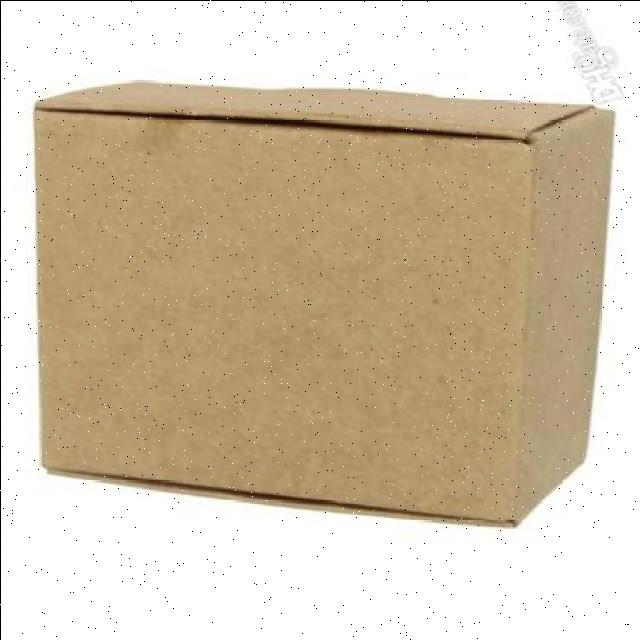normal: (27, 71, 620, 534)
